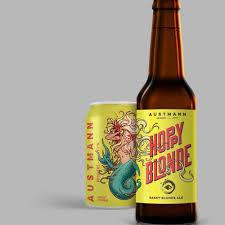beer: (137, 1, 197, 224)
